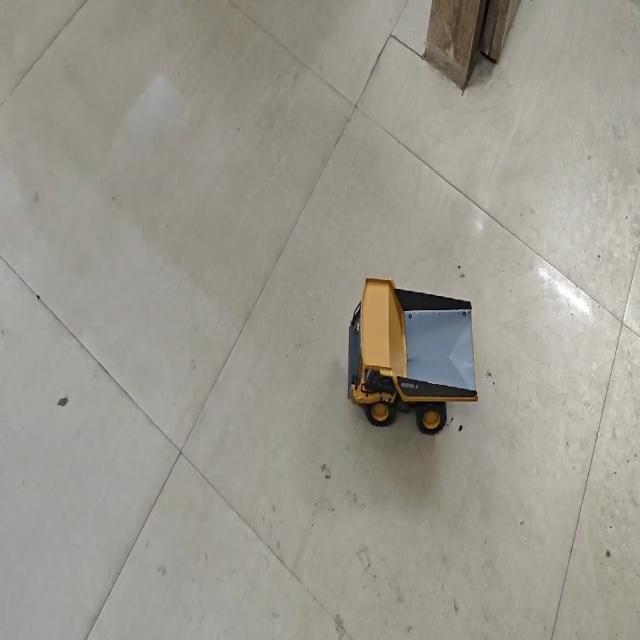dump_truck: (346, 277, 476, 435)
